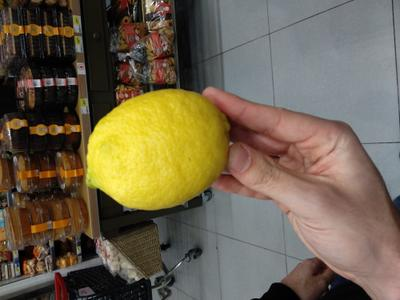lemon: (0, 0, 400, 300)
